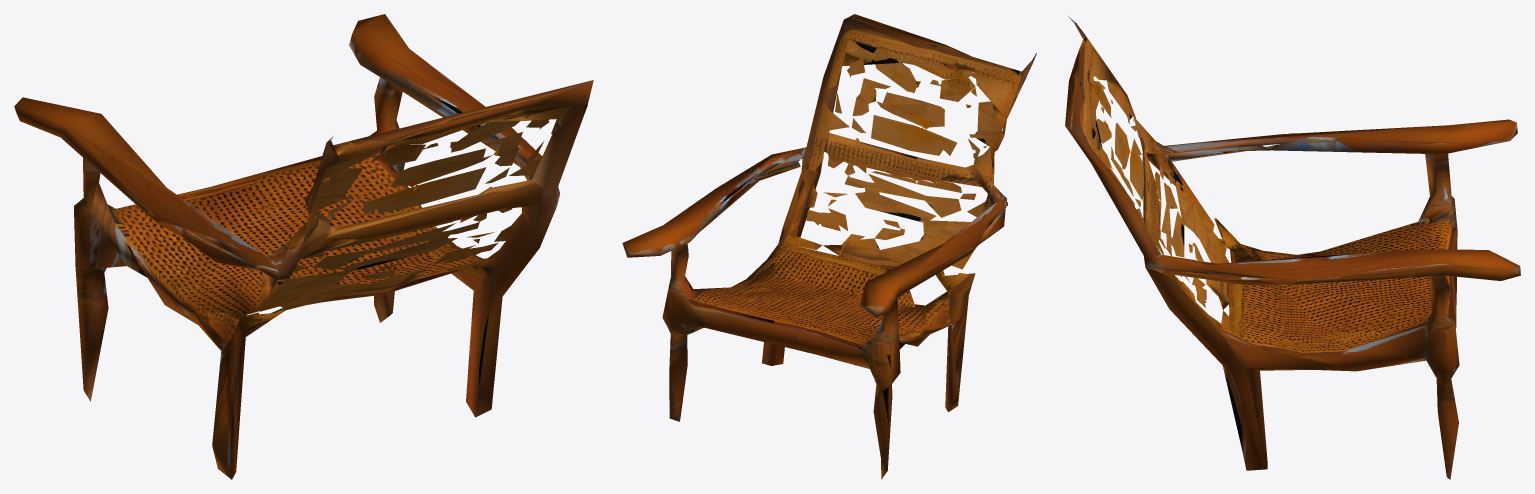
The model's file is old char.fbx.
3 views of the same model, side by side, from view 1: azimuth 30°, elevation 25°; view 2: azimuth 150°, elevation 25°; view 3: azimuth 270°, elevation 25° (orthographic). The views are drawn at different scales.
Visible parts, largest first — view 1: tripo_node_1871fae2; view 2: tripo_node_1871fae2; view 3: tripo_node_1871fae2.
Part boxes in pixels (left/top/right/bottom): tripo_node_1871fae2: left=14, top=14, right=593, bottom=479; tripo_node_1871fae2: left=622, top=14, right=1036, bottom=479; tripo_node_1871fae2: left=1065, top=16, right=1520, bottom=479.
Size of the model in its own units: 77.28 by 85.84 by 98.41.
Materials: 1 (1 with a texture image).
